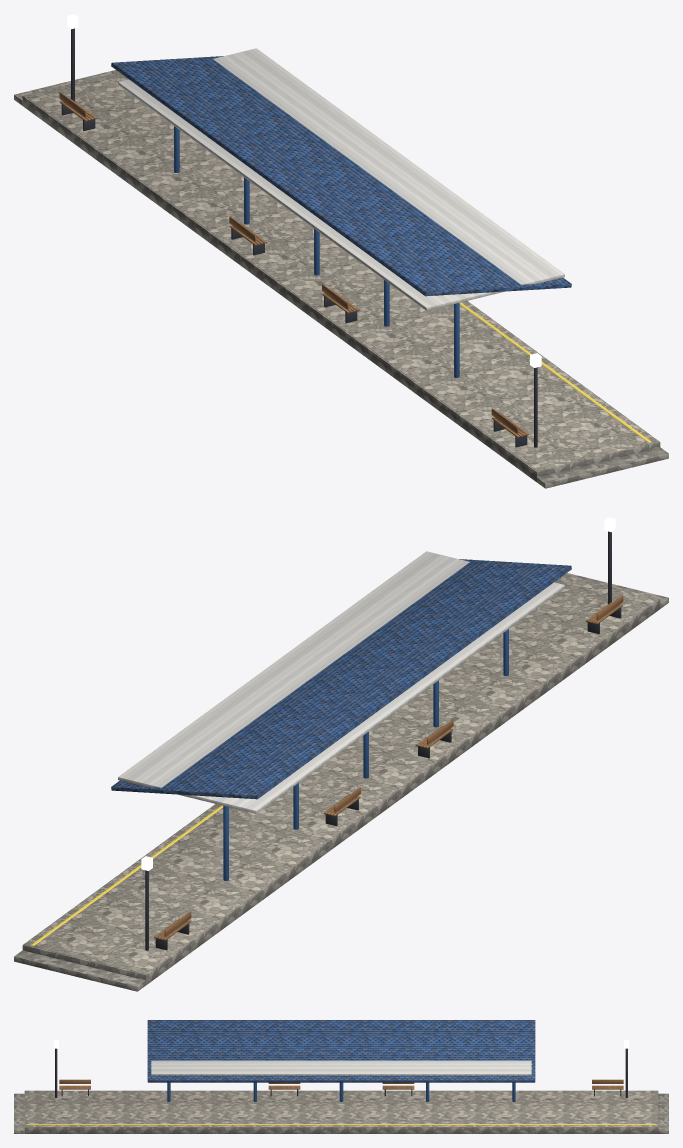
Rendered from platform.glb.
3 renders of one model, top to bottom at view 1: azimuth 30°, elevation 25°; view 2: azimuth 150°, elevation 25°; view 3: azimuth 270°, elevation 25°, orthographic. The views are drawn at different scales.
Visible parts, largest first — view 1: platform; view 2: platform; view 3: platform.
Part boxes in pixels (x1,y1,x2,y2): platform: (14, 14, 668, 488); platform: (14, 517, 668, 991); platform: (14, 1020, 668, 1133).
Size of the model in its own units: 5.93 by 4.61 by 37.2.
Materials: 10 (9 with a texture image).
